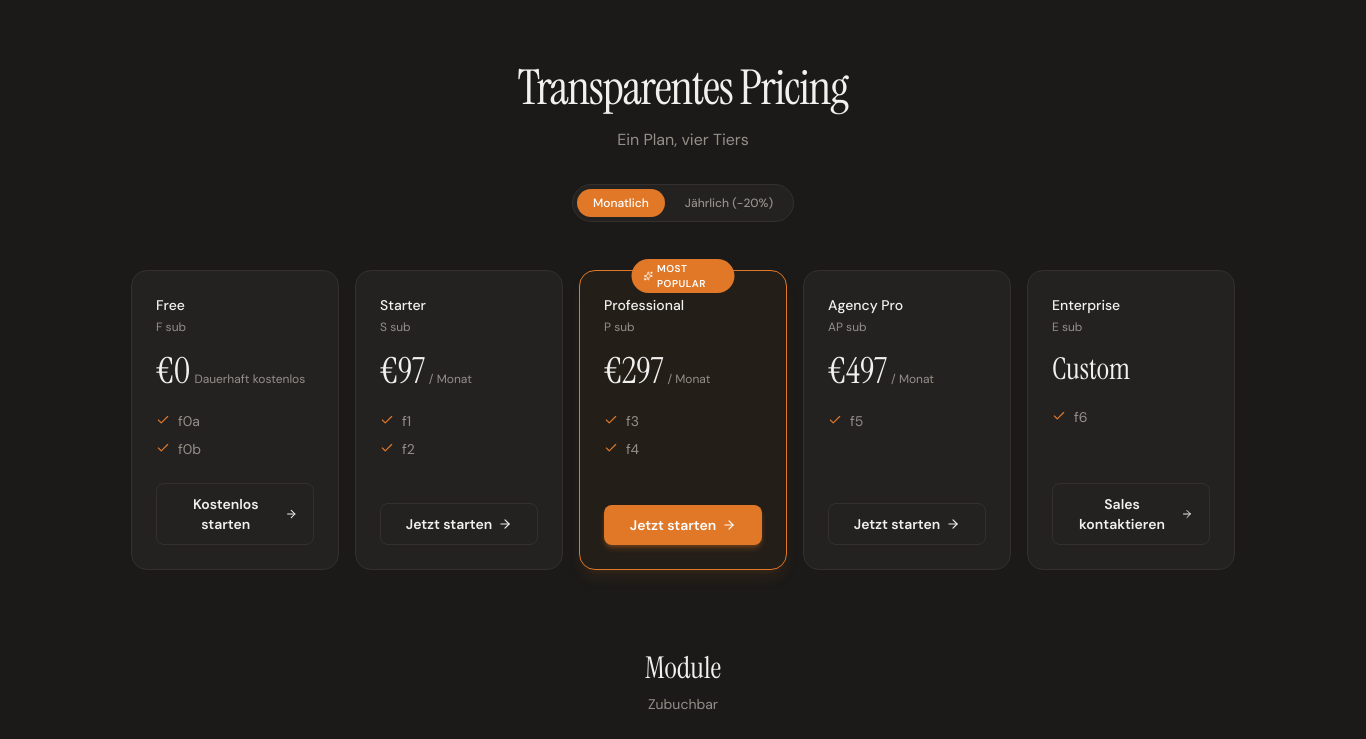
it: PricingClient — logged-in click handler › Logged-in + paid → 503 surfaces user-friendly Stripe-not-configured copy
Click the button with test id "pricing-tier-starter-cta": [459, 524] box [380, 503, 538, 545]
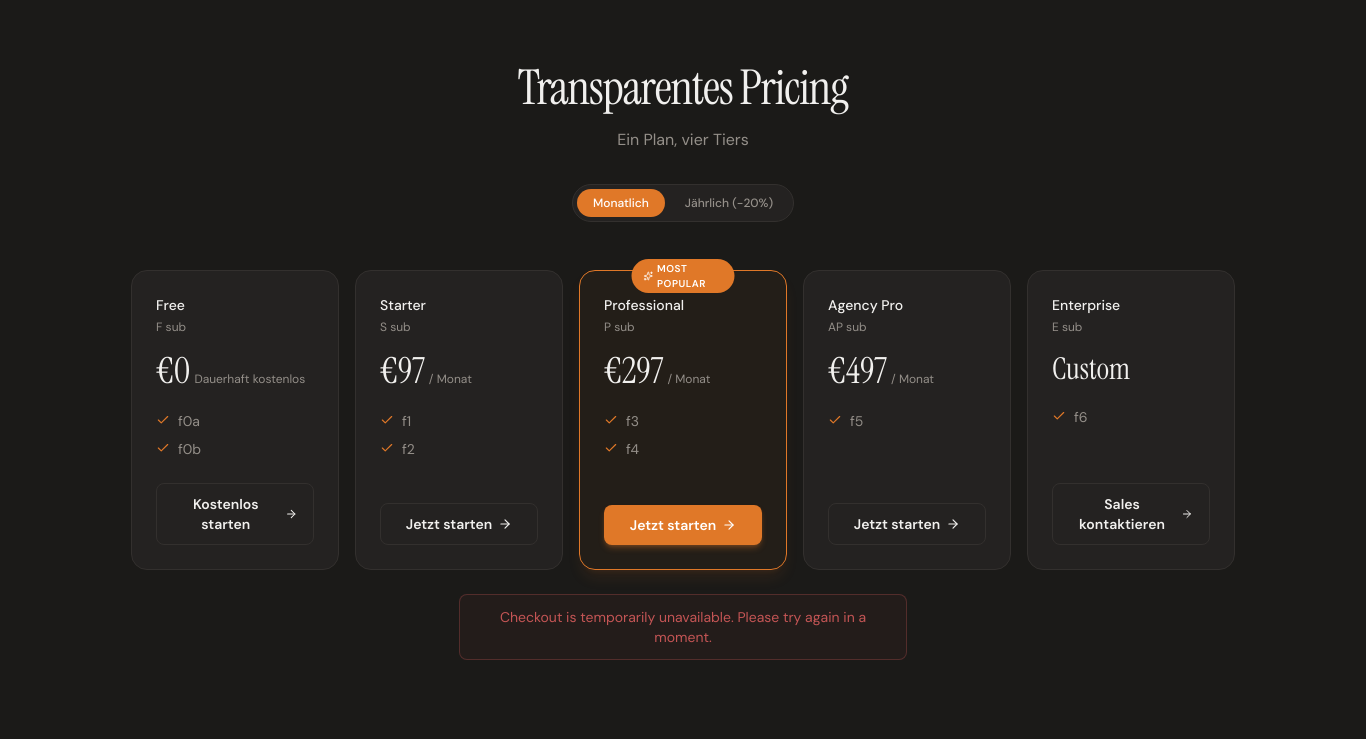
Check: the message with test id "pricing-tier-error" shows "temporarily unavailable", box [500, 608, 866, 646]
